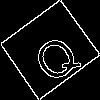Q: (24, 25, 84, 88)
